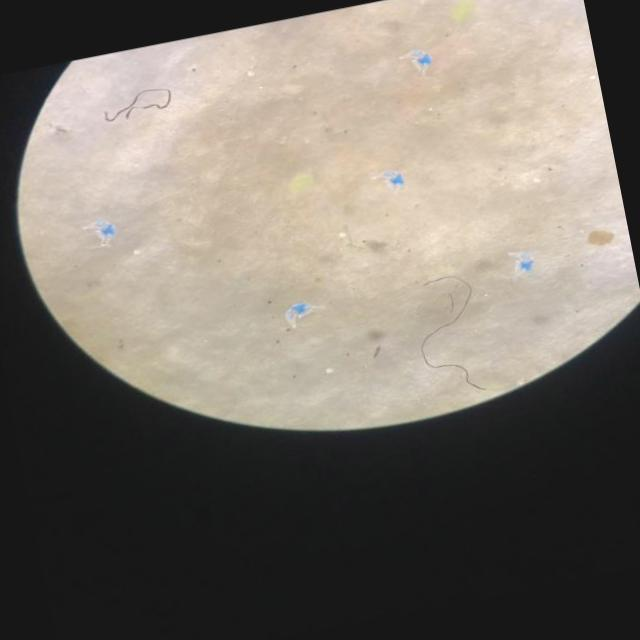fiber: (420, 277, 487, 391), (103, 88, 171, 122)
film: (285, 304, 308, 325), (519, 255, 534, 272), (409, 51, 432, 62), (90, 222, 116, 229), (381, 171, 402, 178)
fragment: (451, 0, 474, 21), (290, 173, 311, 194)
pellet: (326, 368, 332, 374), (134, 250, 141, 255), (340, 233, 346, 238), (534, 179, 541, 183), (248, 73, 254, 77)
